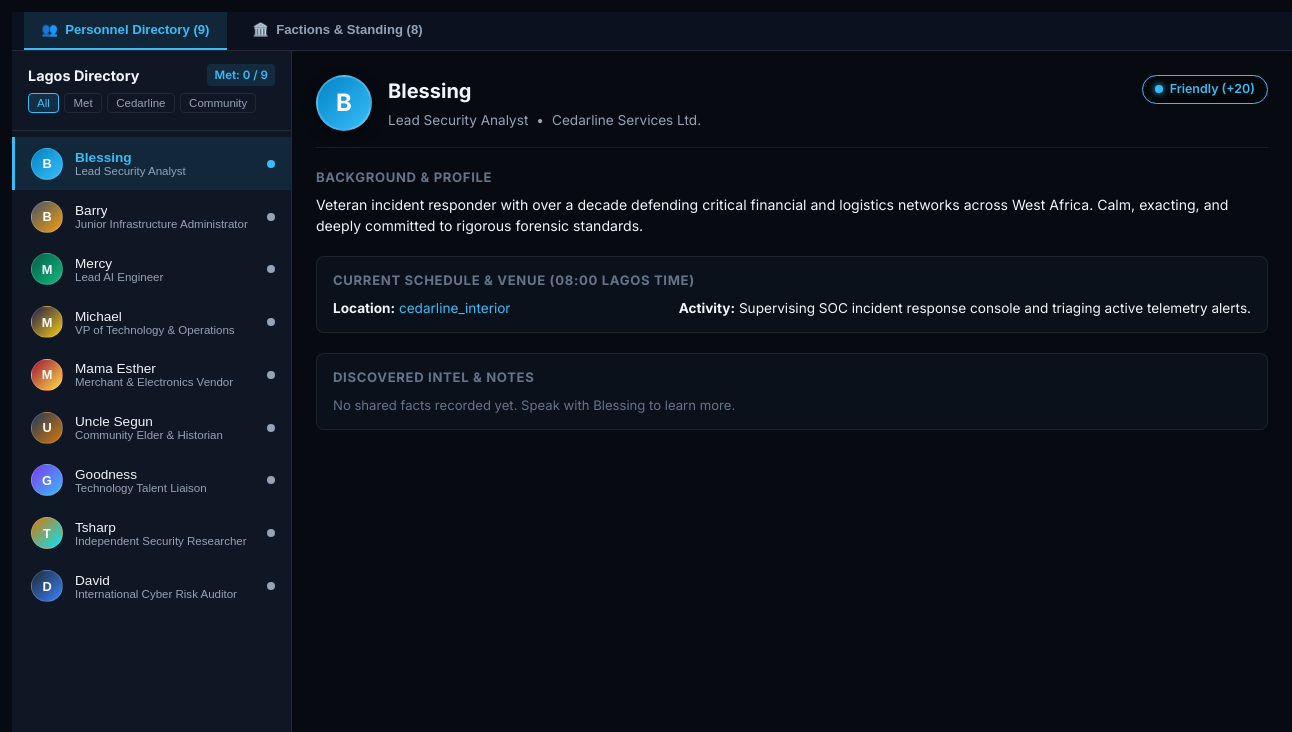
Test: ContactsApp Component › displays detailed dossier, schedule, and relationship progress bar when contact is selected
Select Uncle Segun
Click the button with test id "contact-item-npc_segun". click: coordinates (152, 428)
box: [12,401,291,454]
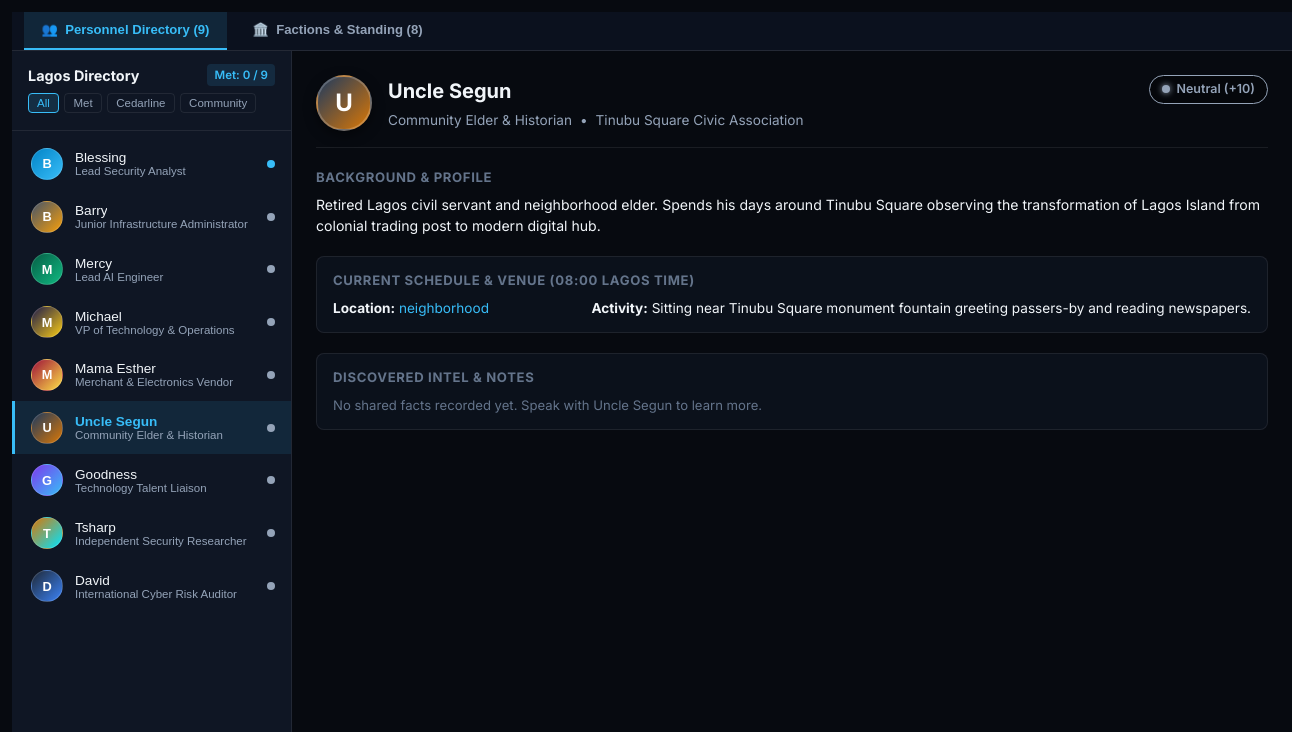
Expected: the text "Neutral (+10)" is shown, [1176,80,1255,98]
Expected: the heading with test id "contact-detail-name" reads "Uncle Segun", [388,79,512,103]
Expected: the text with test id "contact-detail-role" shows "Community Elder", [388,112,572,128]
